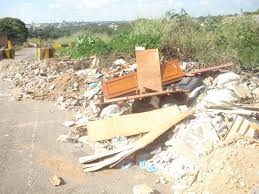rubble: (101, 61, 258, 163)
